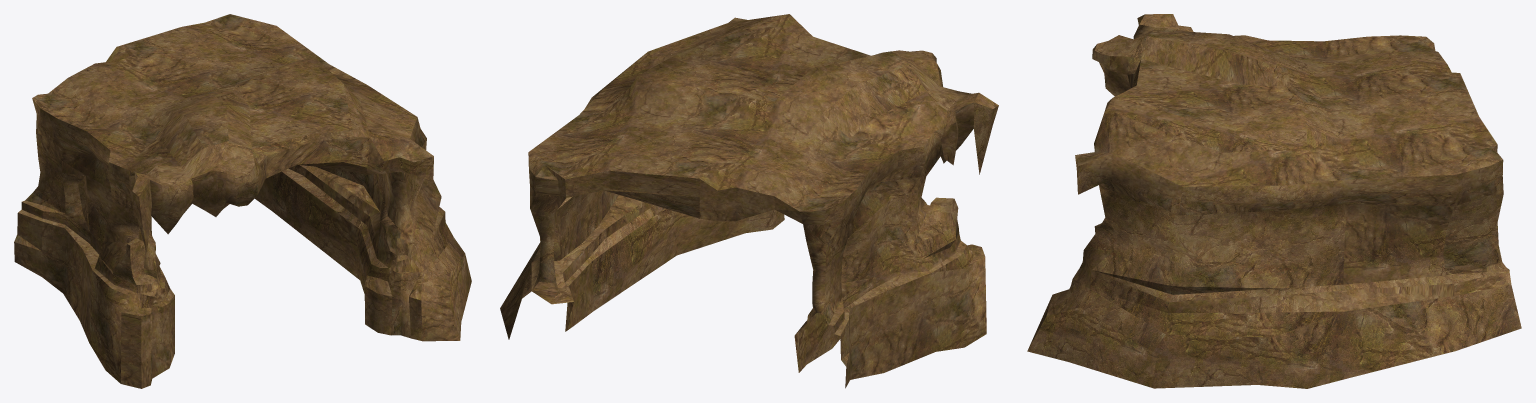
The model's file is S_Rock_Yellow007.FBX.
3 renders of one model, left to right at view 1: azimuth 30°, elevation 25°; view 2: azimuth 150°, elevation 25°; view 3: azimuth 270°, elevation 25°, orthographic. The views are drawn at different scales.
Parts seen in each view (by area): view 1: S_Rock_Yellow007; view 2: S_Rock_Yellow007; view 3: S_Rock_Yellow007.
Part boxes in pixels (x1=…): S_Rock_Yellow007: x1=14, y1=14, x2=471, y2=388; S_Rock_Yellow007: x1=500, y1=14, x2=998, y2=388; S_Rock_Yellow007: x1=1027, y1=14, x2=1521, y2=388.
Bounding box in the file's own units: 1396 × 1592 × 890.
